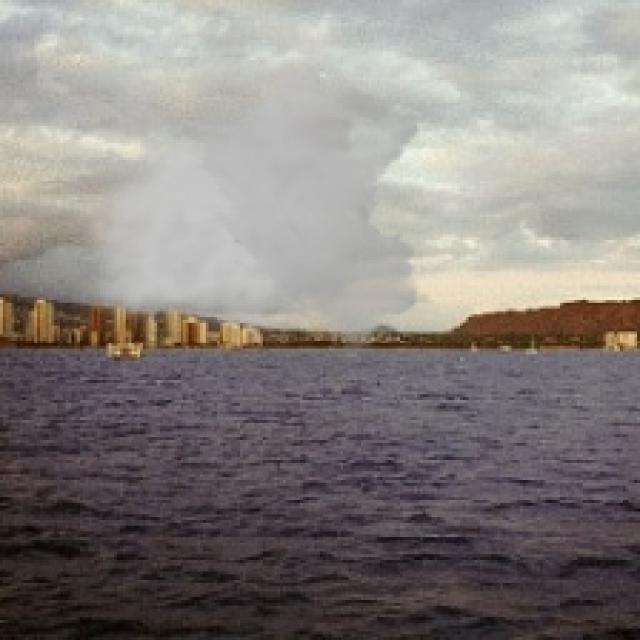smoke: (71, 6, 428, 360)
